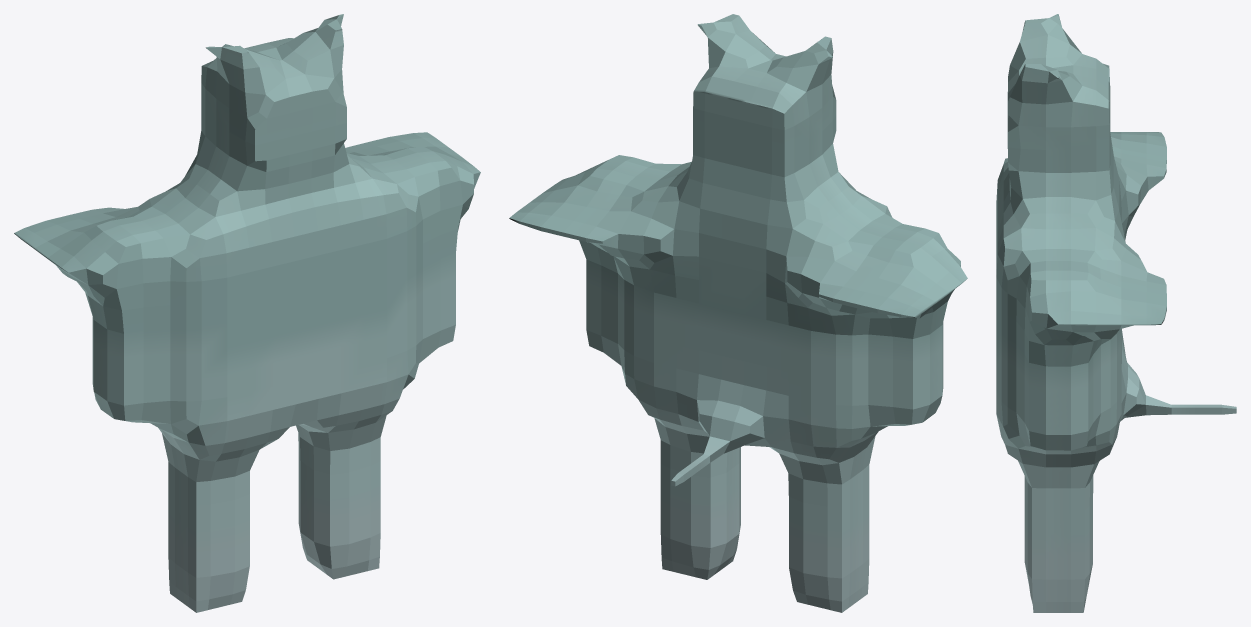
The model's file is demonServant.glb.
The picture shows the model from 3 angles, left to right: view 1: azimuth 30°, elevation 25°; view 2: azimuth 150°, elevation 25°; view 3: azimuth 270°, elevation 25°; orthographic projection. The views are drawn at different scales.
Visible parts, largest first — view 1: geometry_0; view 2: geometry_0; view 3: geometry_0.
Part boxes in pixels (x1,y1,x2,y2): geometry_0: (14, 14, 480, 612); geometry_0: (509, 14, 967, 612); geometry_0: (996, 14, 1236, 612).
Bounding box in the file's own units: 0.7553 × 0.963 × 0.3981.
1 material, 1 textured.
